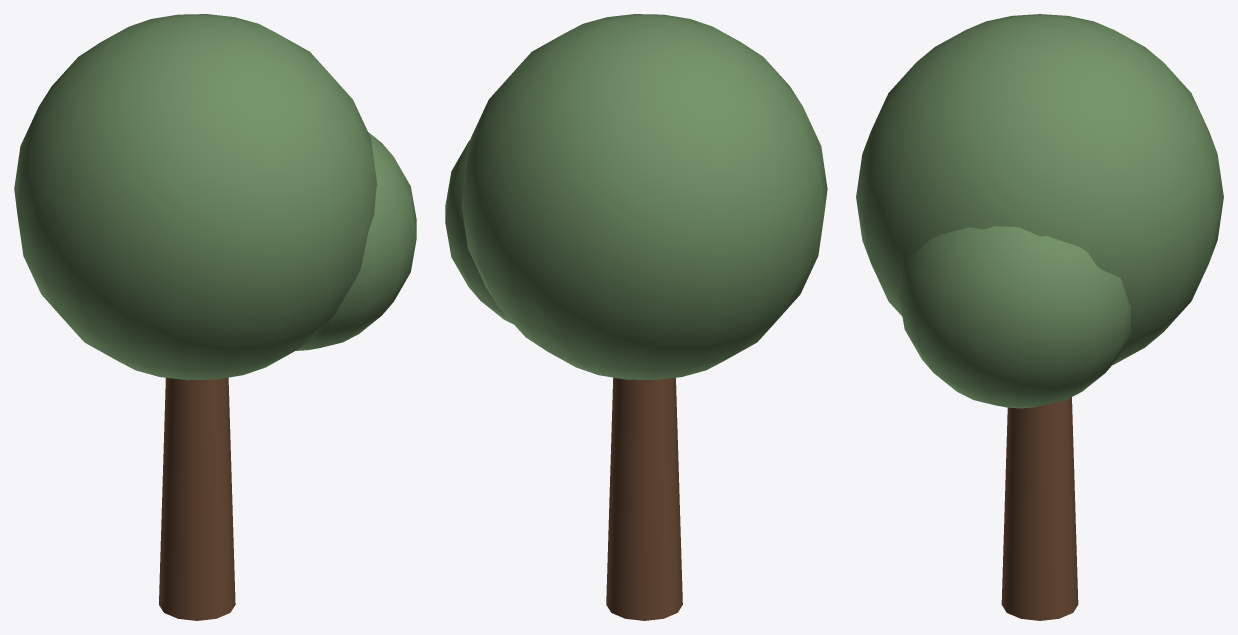
The model's file is component-garden-tree.glb.
The picture shows the model from 3 angles, left to right: view 1: azimuth 30°, elevation 25°; view 2: azimuth 150°, elevation 25°; view 3: azimuth 270°, elevation 25°; orthographic projection.
Parts seen in each view (by area): view 1: crown_main, trunk, crown_side; view 2: crown_main, trunk, crown_side; view 3: crown_main, crown_side, trunk.
Part boxes in pixels (left/top/right/bottom): crown_main: left=14, top=14, right=377, bottom=380; trunk: left=159, top=377, right=235, bottom=620; crown_side: left=295, top=132, right=416, bottom=350; crown_main: left=461, top=14, right=827, bottom=380; trunk: left=606, top=377, right=682, bottom=620; crown_side: left=445, top=139, right=513, bottom=324; crown_main: left=856, top=14, right=1223, bottom=364; crown_side: left=898, top=226, right=1130, bottom=408; trunk: left=1001, top=397, right=1078, bottom=620.
Size of the model in its own units: 0.8 by 1.24 by 0.72.
